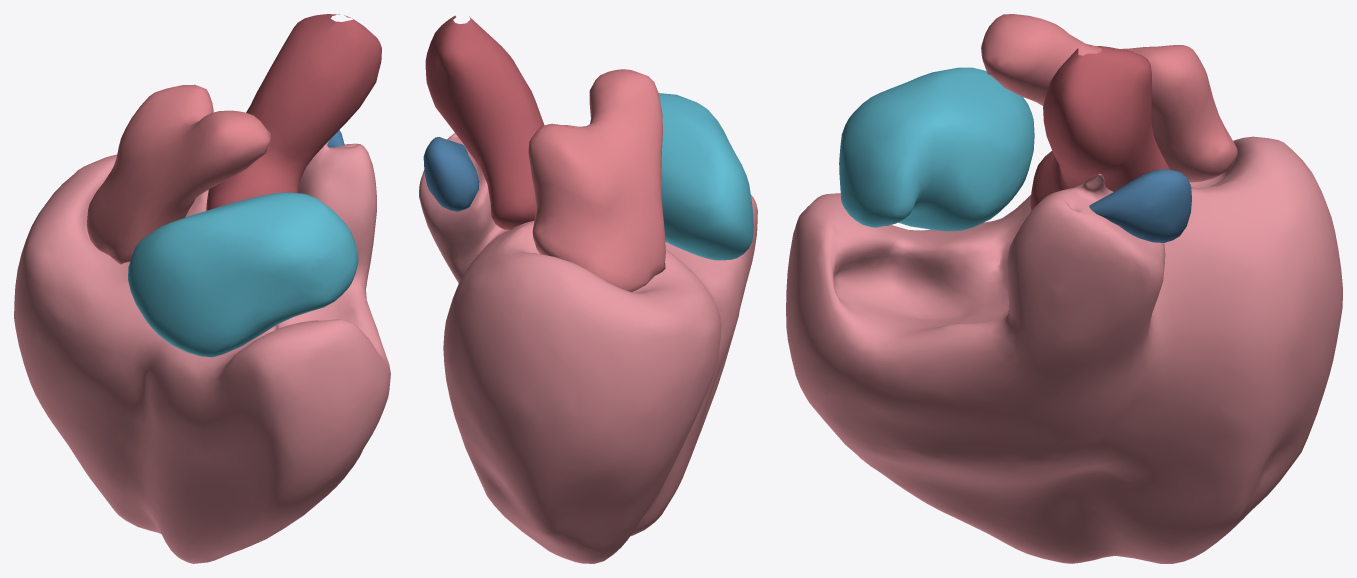
Rendered from frame_52.glb.
3 views of the same model, side by side, from view 1: azimuth 30°, elevation 25°; view 2: azimuth 150°, elevation 25°; view 3: azimuth 270°, elevation 25° (orthographic). The views are drawn at different scales.
Visible parts, largest first — view 1: Renderer Node; view 2: Renderer Node; view 3: Renderer Node.
Boxes of the visible parts, x1,y1,x2,y2 form: Renderer Node: (14,14,390,563); Renderer Node: (419,15,757,563); Renderer Node: (786,14,1342,563).
Size of the model in its own units: 107 by 164 by 137.
